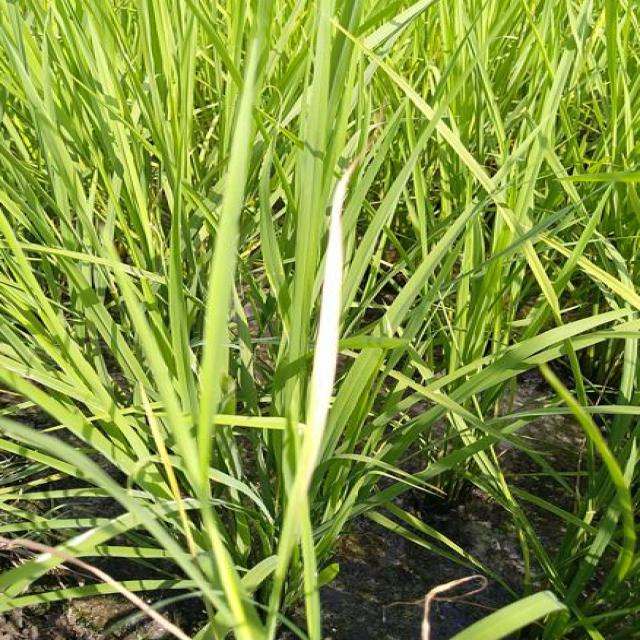Leaf Blight: (302, 156, 359, 465)
